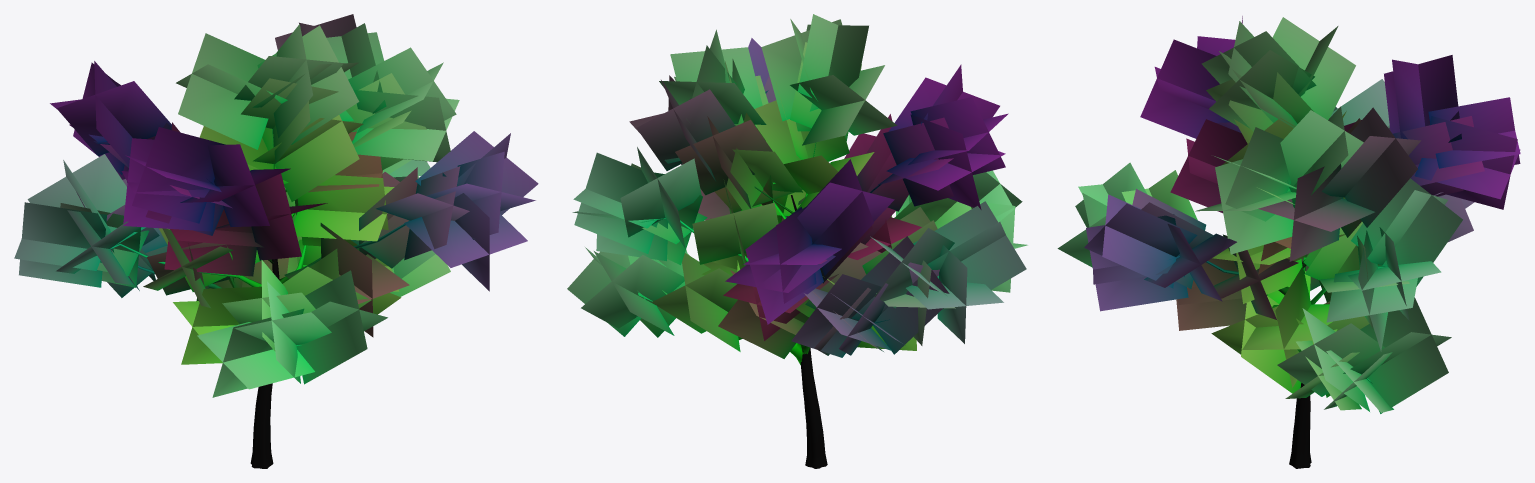
The model's file is M_P3_Tree_1.fbx.
The picture shows the model from 3 angles, left to right: view 1: azimuth 30°, elevation 25°; view 2: azimuth 150°, elevation 25°; view 3: azimuth 270°, elevation 25°; orthographic projection. The views are drawn at different scales.
Parts seen in each view (by area): view 1: Tree_1; view 2: Tree_1; view 3: Tree_1.
Part boxes in pixels (<box>): Tree_1: <box>14,14,538,468</box>; Tree_1: <box>567,14,1027,468</box>; Tree_1: <box>1057,16,1520,468</box>.
Size of the model in its own units: 628 by 614 by 581.
